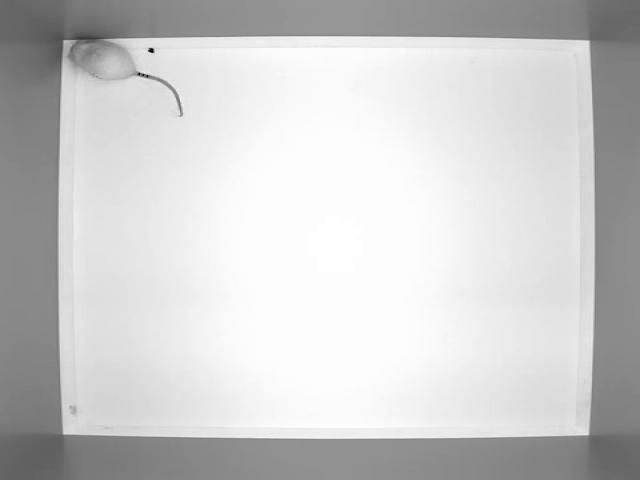Tikus: (61, 31, 190, 122)
